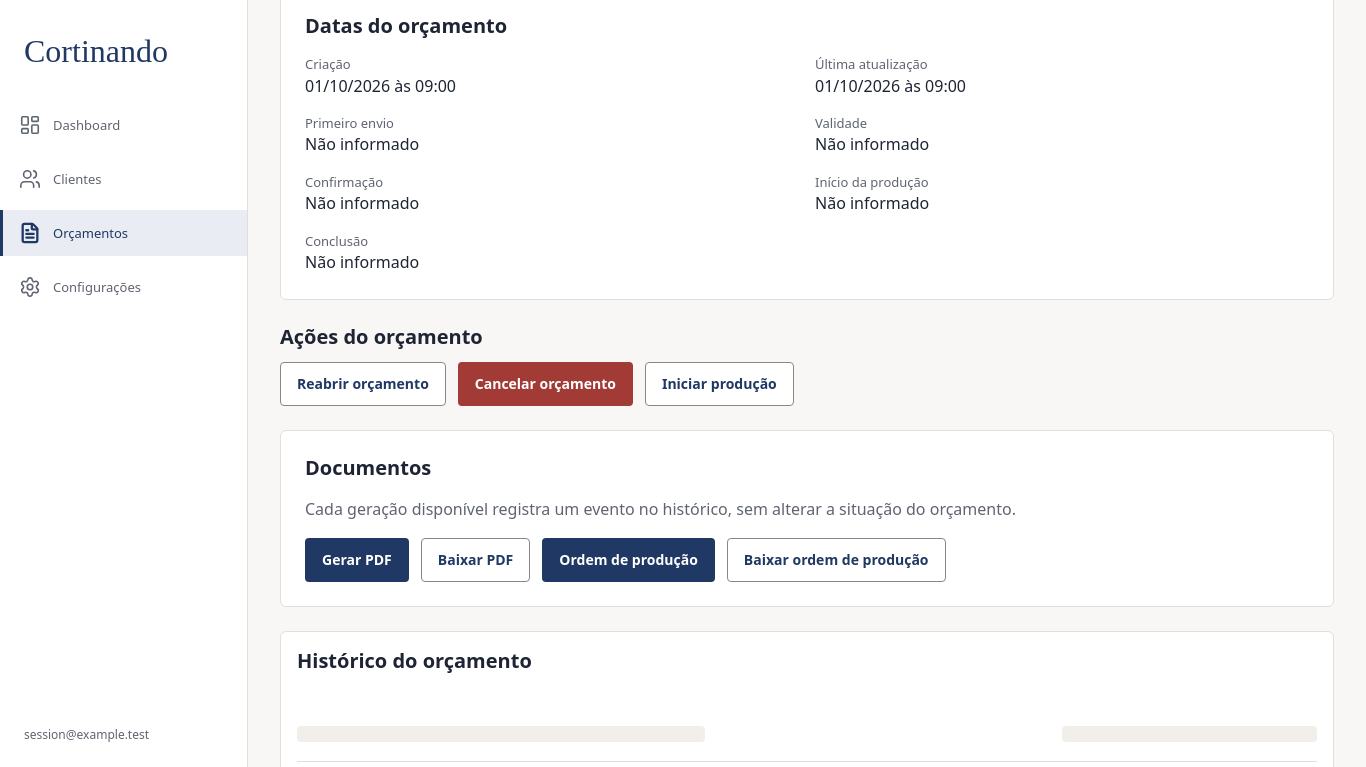
CONFIRMED Reabrir orçamento requires confirmation and replaces detail from its dedicated endpoint
(page scrolled)
Click the button "Reabrir orçamento".
click(363, 384)  # box left=280, top=362, right=446, bottom=406
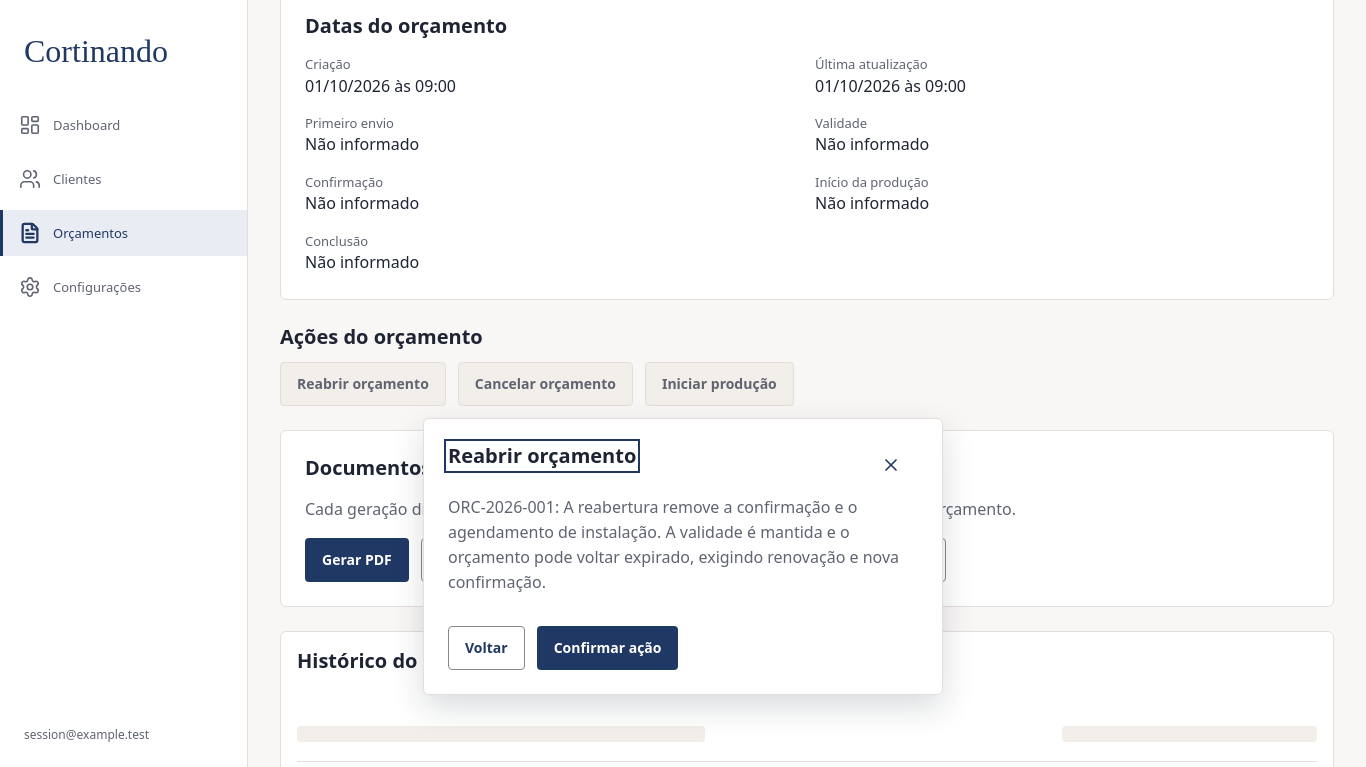
Check: the dialog shows "ORC-2026-001", box left=448, top=496, right=899, bottom=593
Click the button "Confirmar ação".
click(608, 648)  # box left=537, top=626, right=678, bottom=670
(page scrolled)
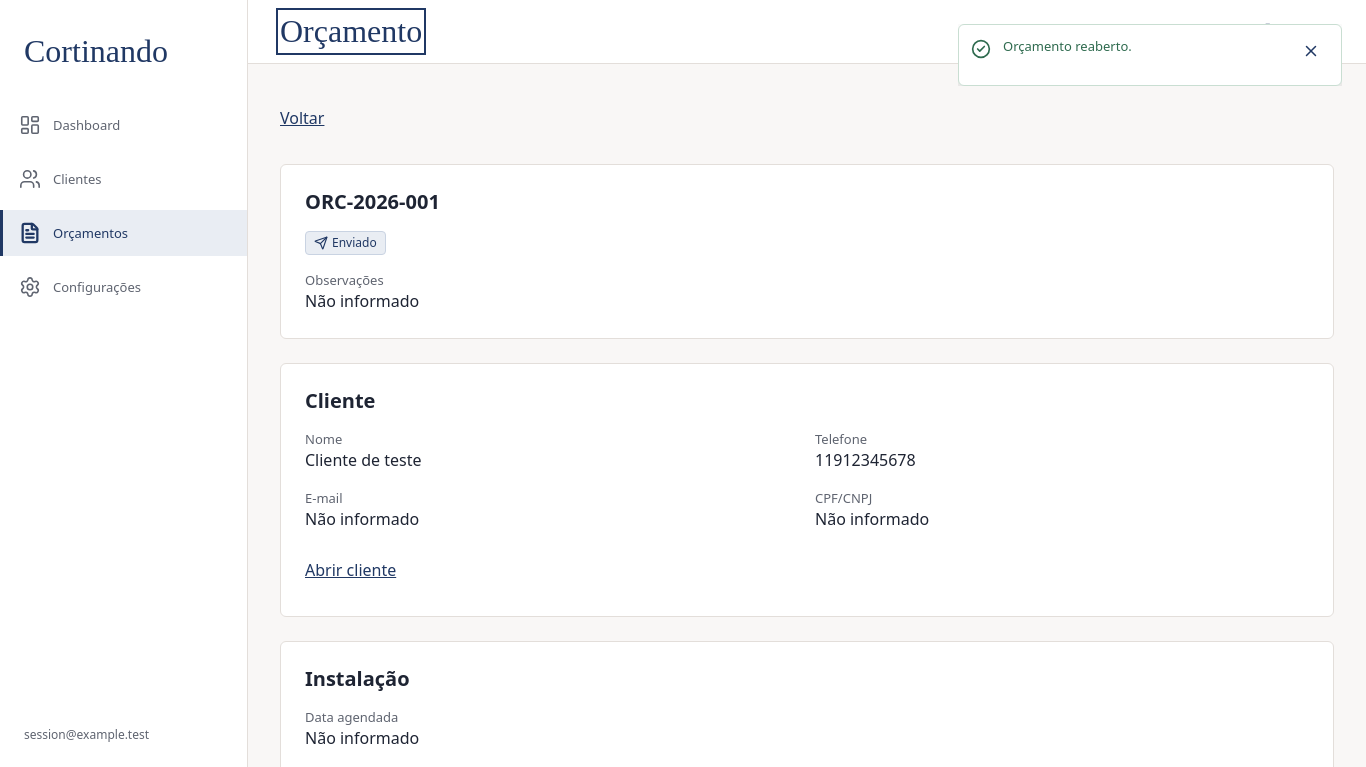
Check: the dialog is gone
Check: the element named "Resumo do orçamento" shows "Enviado", box left=332, top=234, right=377, bottom=251
